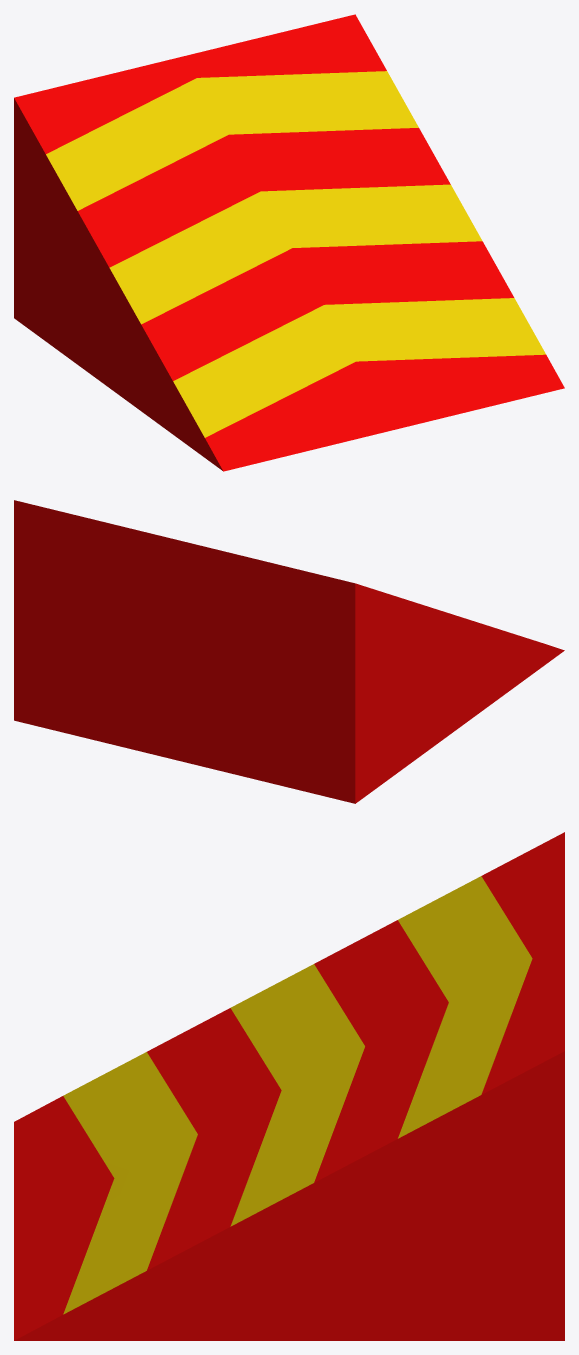
File: Ramp.fbx
3 views of the same model, one above another, from view 1: azimuth 30°, elevation 25°; view 2: azimuth 150°, elevation 25°; view 3: azimuth 270°, elevation 25° (orthographic). The views are drawn at different scales.
Visible parts, largest first — view 1: Ramp; view 2: Ramp; view 3: Ramp.
Boxes of the visible parts, x1,y1,x2,y2 form: Ramp: (14,14,564,471); Ramp: (14,500,564,803); Ramp: (14,832,564,1340).
Bounding box in the file's own units: 0.9513 × 1.01 × 0.5872.
